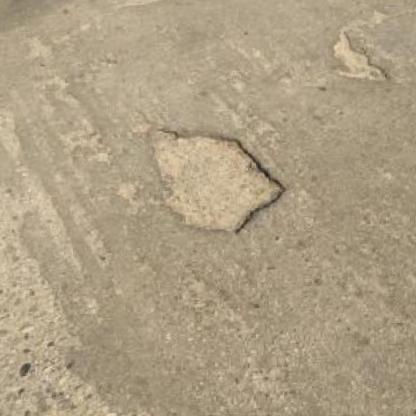pothole: (140, 117, 289, 240), (330, 28, 391, 87)
